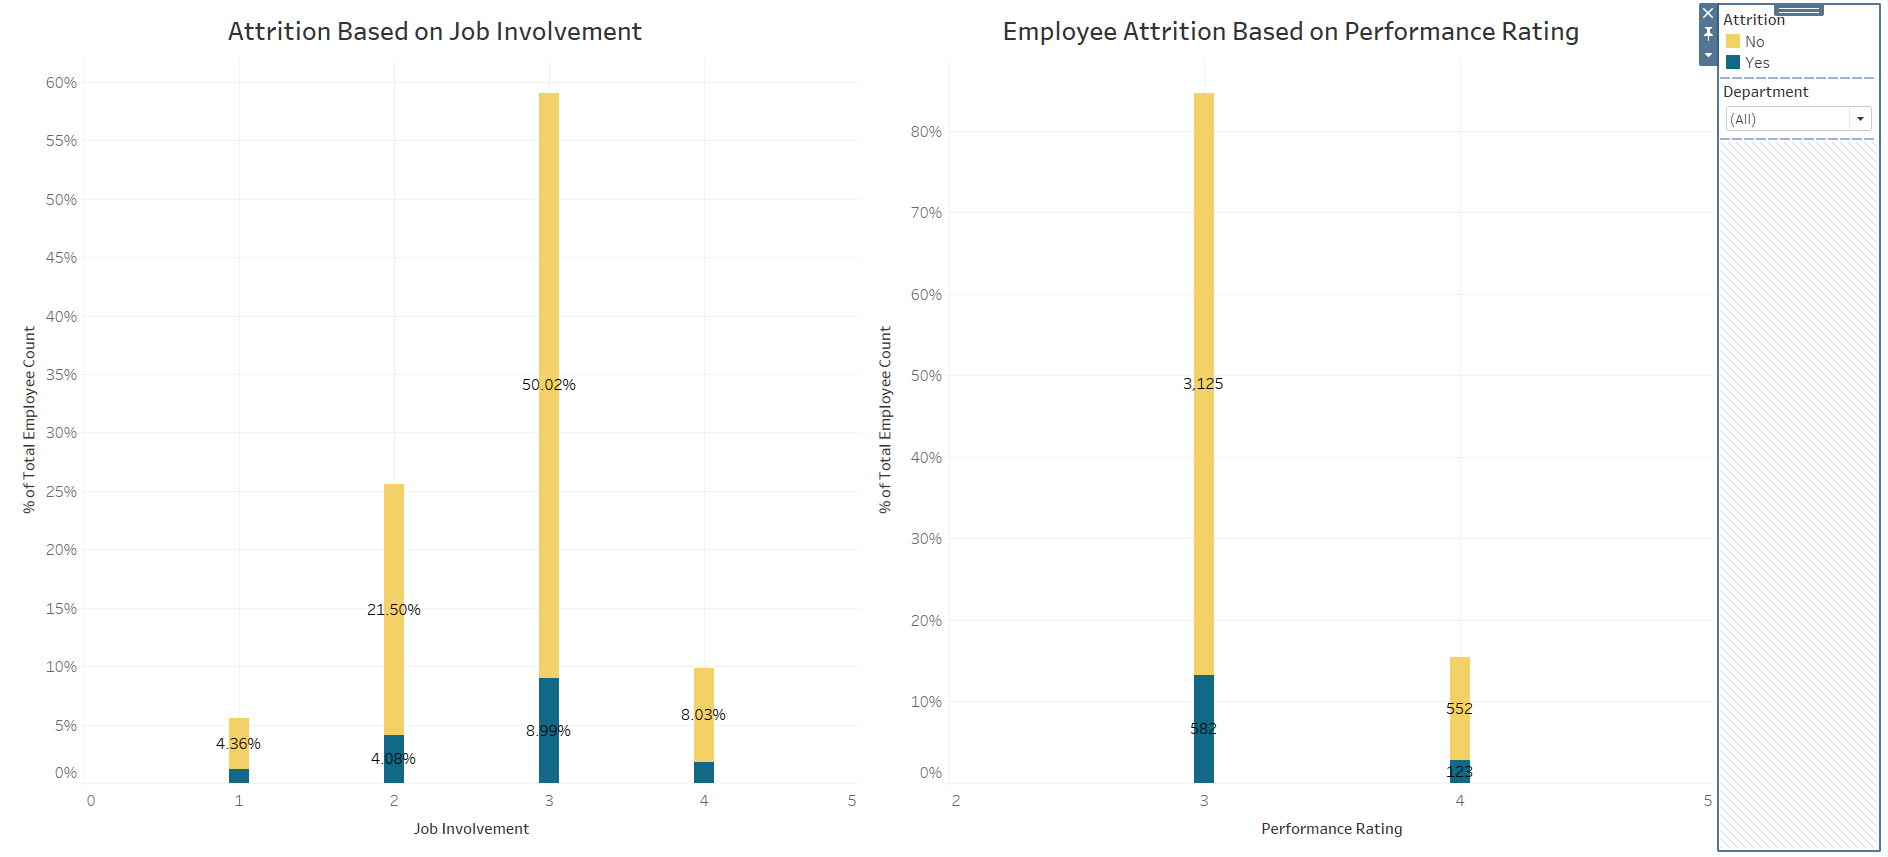

Layout of this report page (visuals, bound fields, positions):
{"tool":"tableau","page":{"name":"Dashboard 6","canvas":[1000,1000],"units":"permille","ordinal":5},"visuals":[{"type":"worksheet","title":"Sheet 30","mark":"Bar","rows":["EmployeeCount"],"cols":["JobInvolvement"],"box":[4.8,9.3,446.9,981.4]},{"type":"worksheet","title":"Sheet 31","mark":"Bar","rows":["EmployeeCount"],"cols":["PerformanceRating"],"box":[451.7,9.3,446.9,981.4]},{"type":"legend","title":"Sheet 30","param":"[federated.0j0eqzi1m7ro331365rb91to361o].[none:Attrition:nk]","box":[898.6,9.3,96.6,83.6]},{"type":"filter","title":"Sheet 30","param":"[federated.0j0eqzi1m7ro331365rb91to361o].[none:Department:nk]","box":[898.6,92.9,96.6,70.9]}]}

Visuals, with their boxes on the dashboard's canvas, which has no fixed pixel size, in thousandths of its width and height (x1, y1, x2, y2). These are canvas units, not pixel positions in the 1888x857 screenshot, which may show the page scaled, cropped or inside an application window:
"Sheet 30" worksheet (Bar marks): x1=5 y1=9 x2=452 y2=991
"Sheet 31" worksheet (Bar marks): x1=452 y1=9 x2=899 y2=991
"Sheet 30" legend: x1=899 y1=9 x2=995 y2=93
"Sheet 30" filter: x1=899 y1=93 x2=995 y2=164
